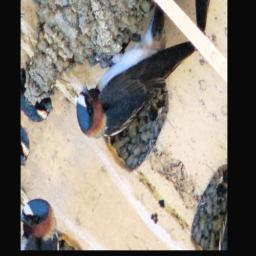Swallow: (67, 0, 200, 191)
